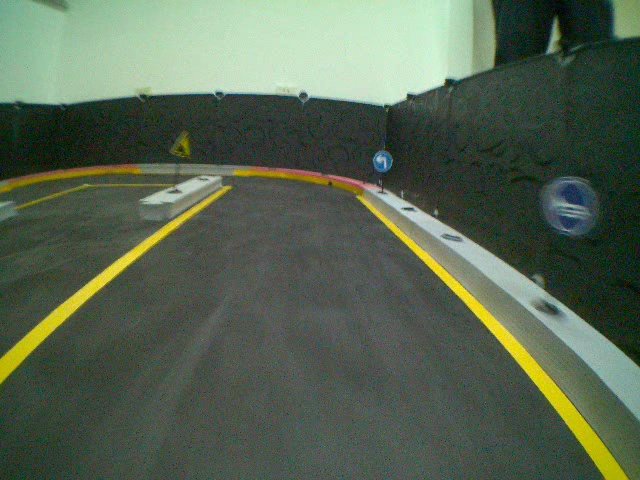fast: (167, 129, 194, 160)
horn: (542, 178, 603, 238)
turn: (372, 149, 394, 172)
